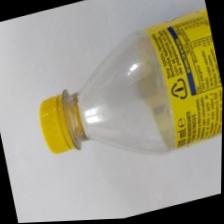glass: (0, 0, 220, 203)
plastic: (0, 0, 221, 222)
